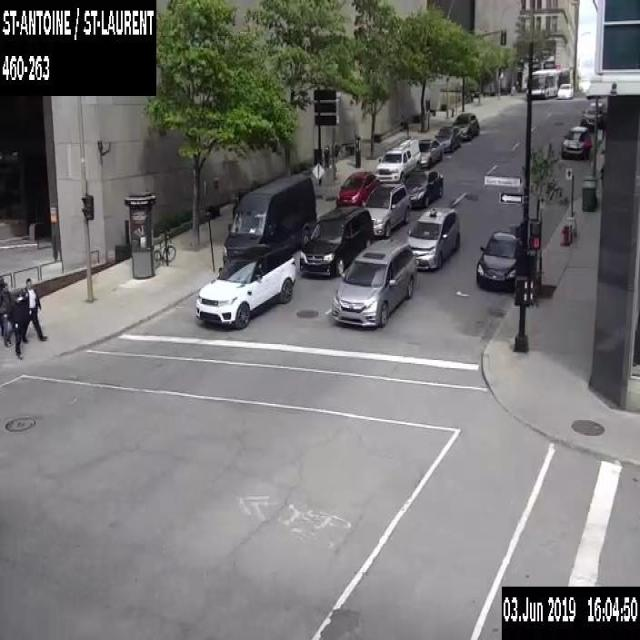bus: (525, 66, 569, 98)
construction: (312, 161, 323, 198)
pedestrian: (21, 276, 47, 342), (6, 288, 24, 358), (0, 282, 12, 345), (323, 144, 329, 170)
vehicle: (222, 174, 316, 265), (195, 244, 295, 328), (330, 238, 415, 326), (299, 204, 372, 274), (405, 205, 459, 269), (475, 229, 521, 292), (362, 180, 410, 237), (375, 138, 420, 182), (403, 166, 443, 206), (335, 170, 378, 207), (560, 125, 590, 159), (417, 137, 443, 168), (451, 112, 478, 139), (434, 125, 459, 152), (580, 101, 604, 129), (557, 82, 573, 98)
